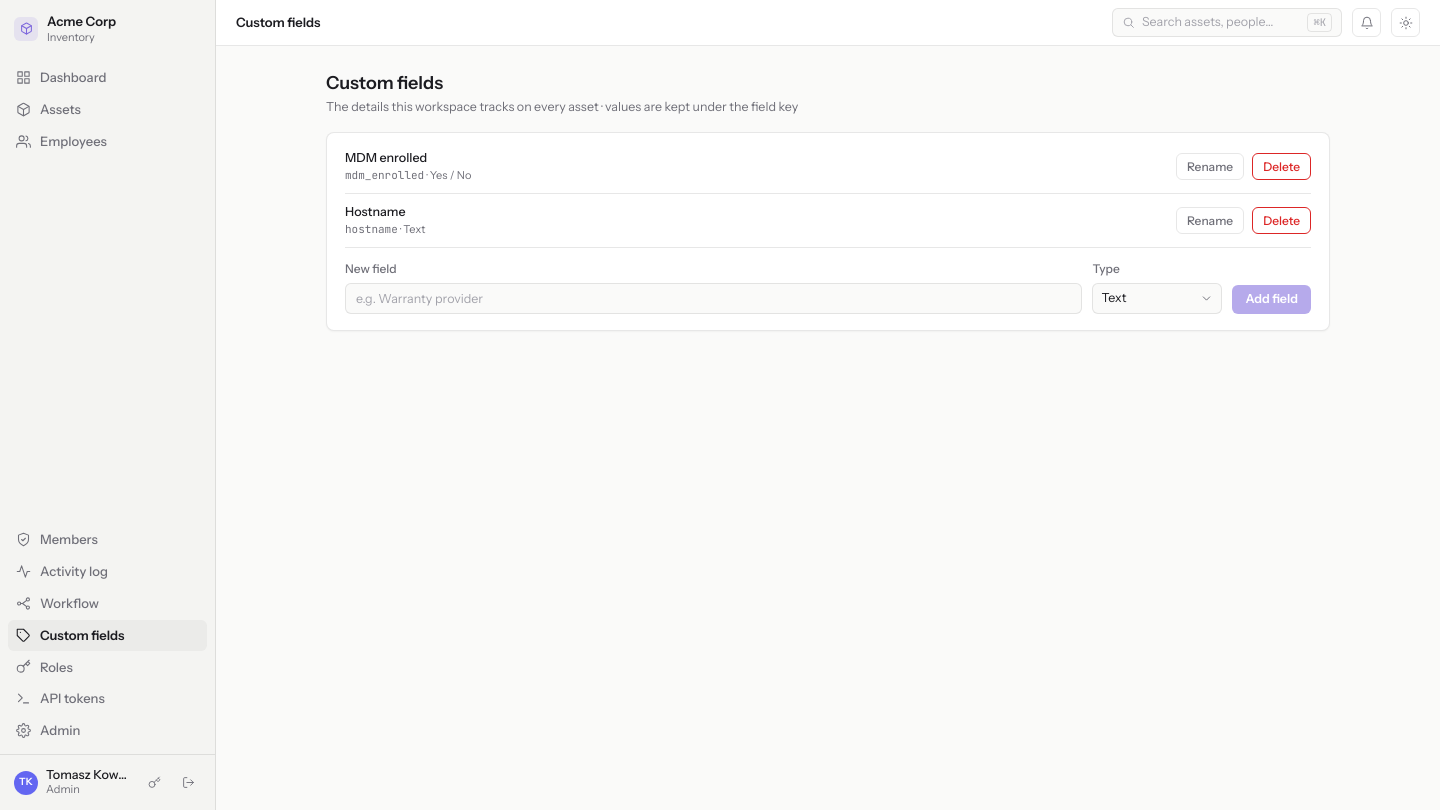
Test: the definitions list › disarms the second step on Escape or when focus leaves it
Click the button with aria-label "Delete Hostname": point(1282, 221) [1252,207,1311,234]
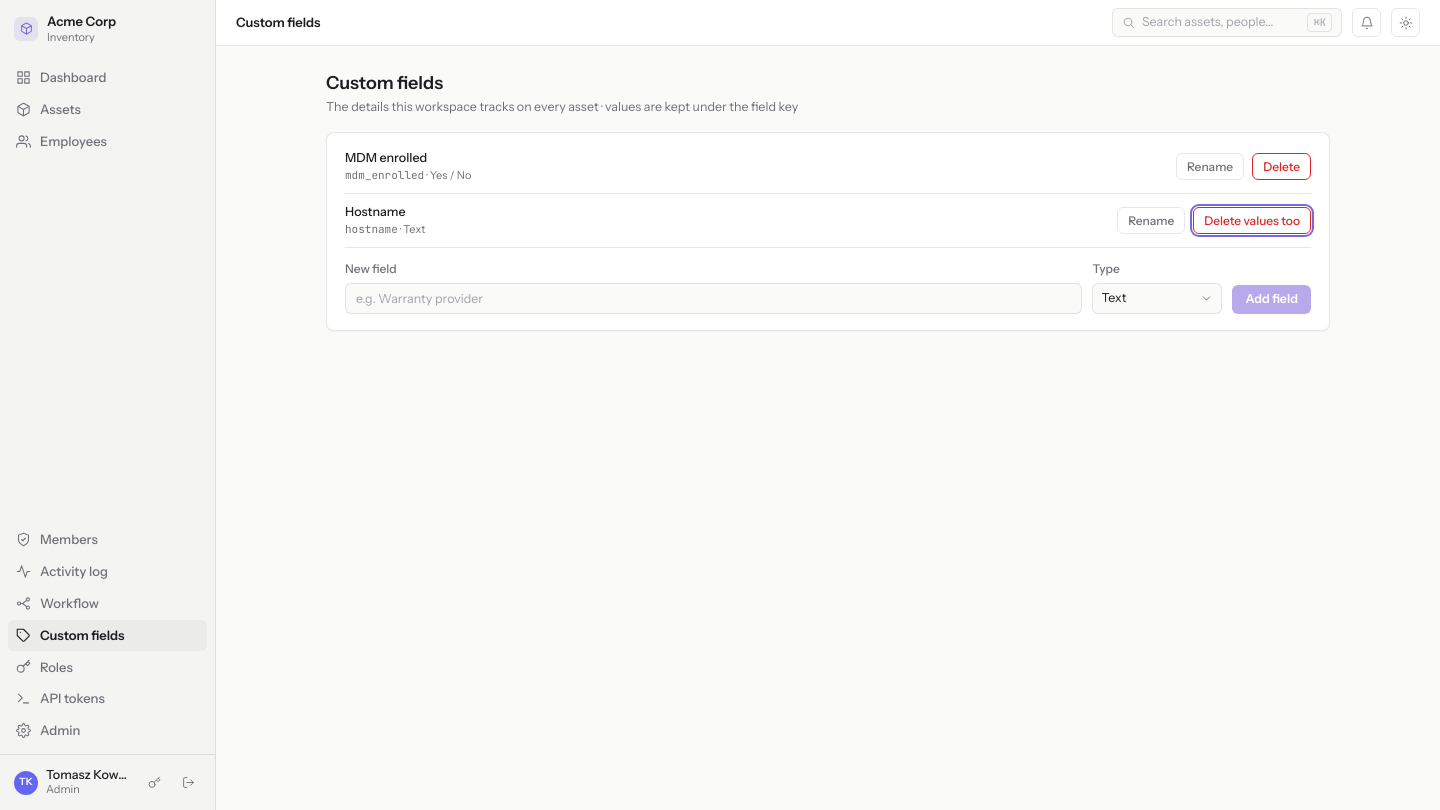
Press Escape
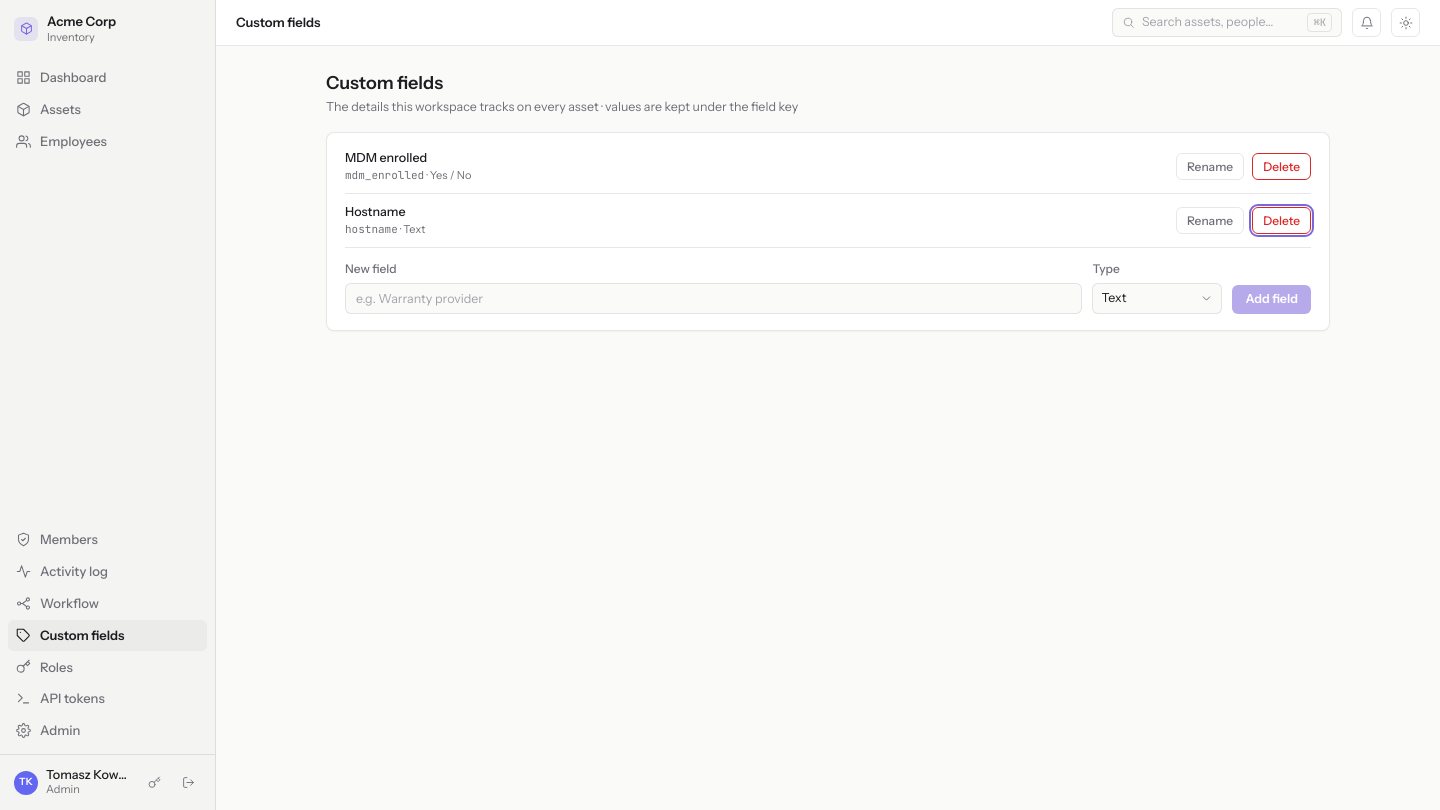
Now the button with aria-label "Delete Hostname" is shown
Click the button with aria-label "Delete Hostname": point(1282, 221) [1252,207,1311,234]
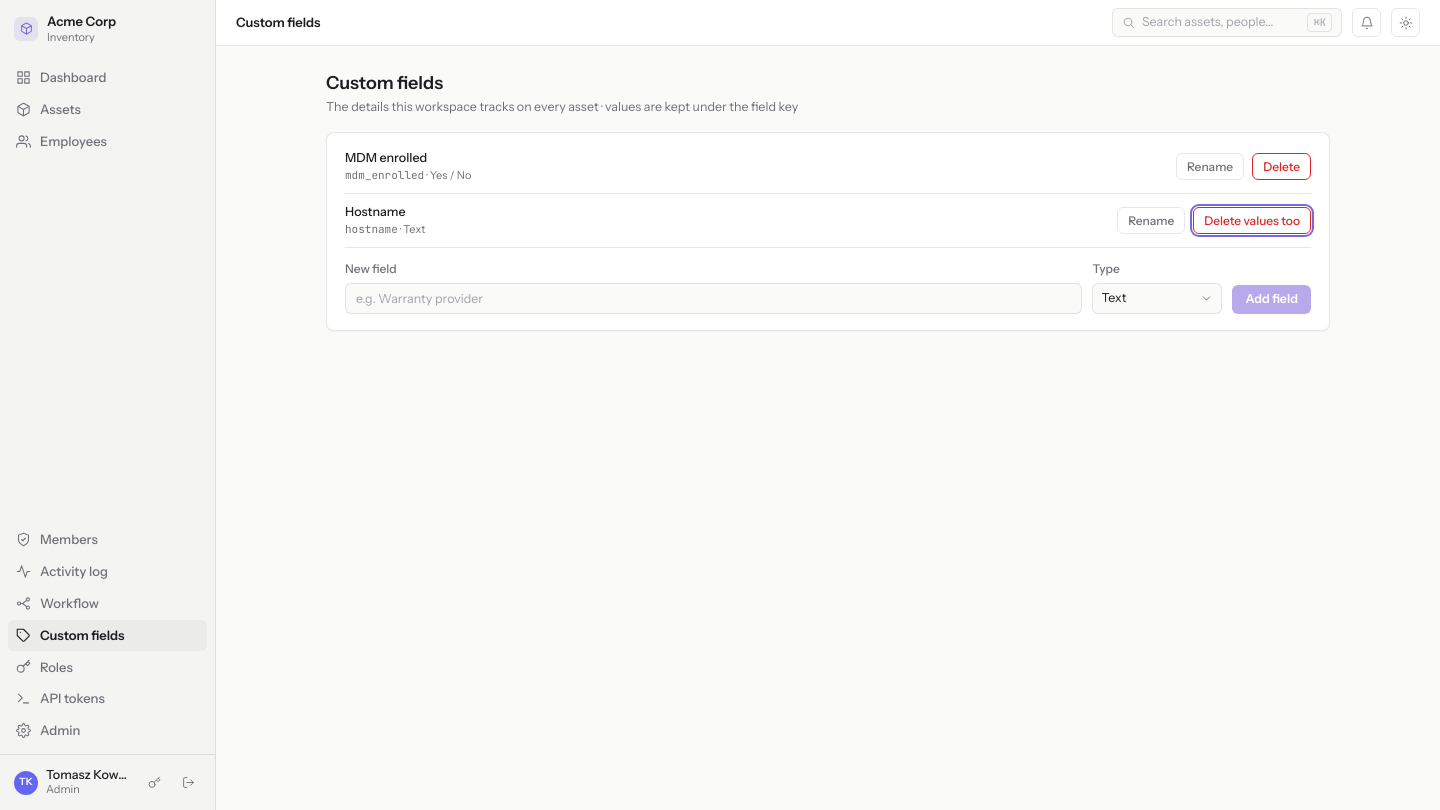
Press Tab
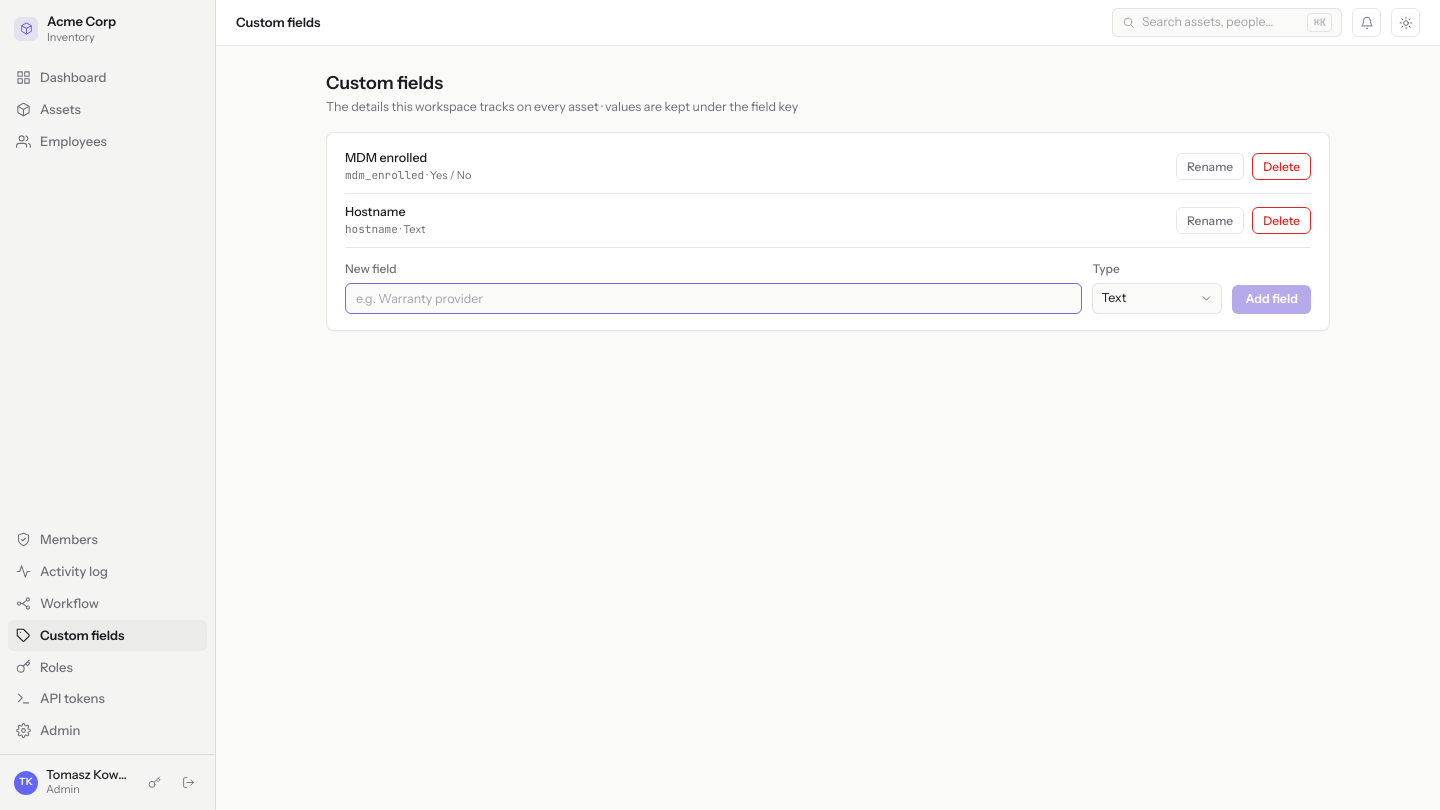
Now the button with aria-label "Delete Hostname" is shown, box [1252,207,1311,234]
